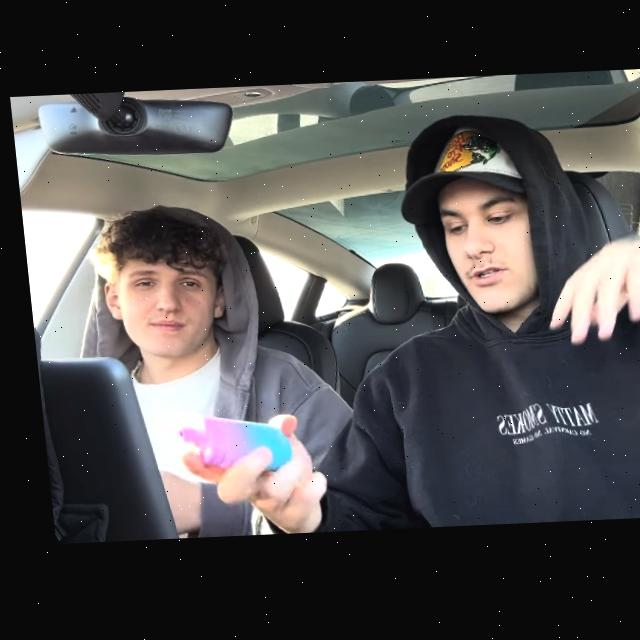vape: (167, 413, 283, 475)
